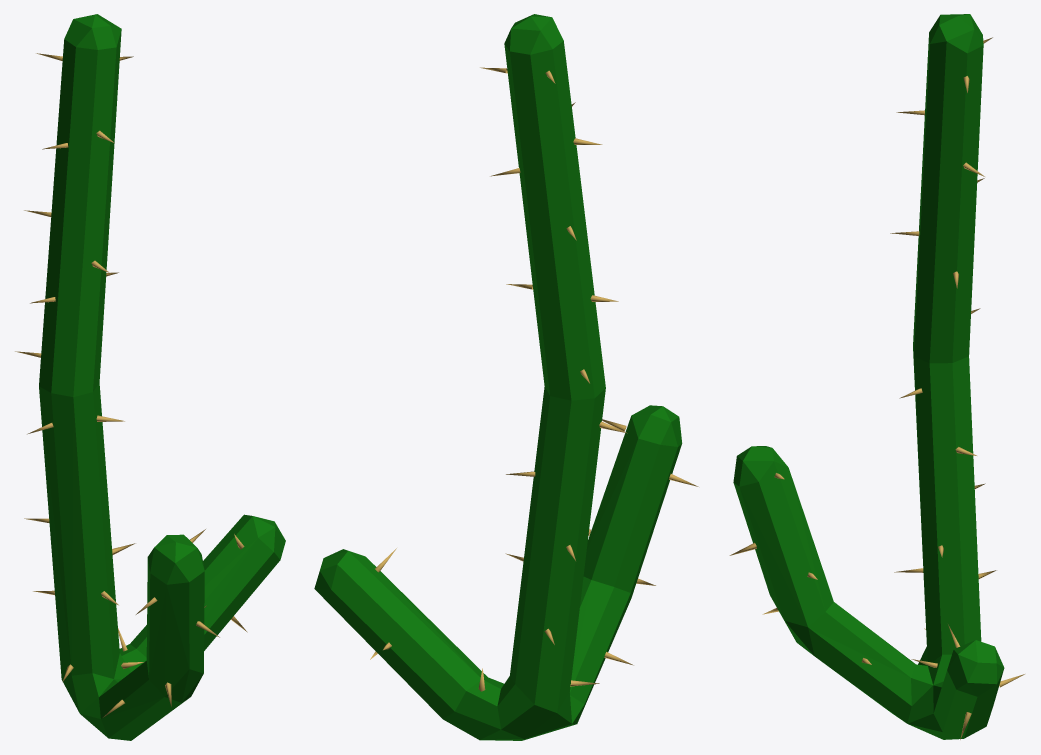
Rendered from Cactus5.fbx.
3 views of the same model, side by side, from view 1: azimuth 30°, elevation 25°; view 2: azimuth 150°, elevation 25°; view 3: azimuth 270°, elevation 25° (orthographic). The views are drawn at different scales.
Parts seen in each view (by area): view 1: Cactus5; view 2: Cactus5; view 3: Cactus5.
Part boxes in pixels (x1,y1,x2,y2): Cactus5: (39,14,285,740); Cactus5: (314,14,682,740); Cactus5: (733,14,1004,739).
Bounding box in the file's own units: 247 × 604 × 232.
